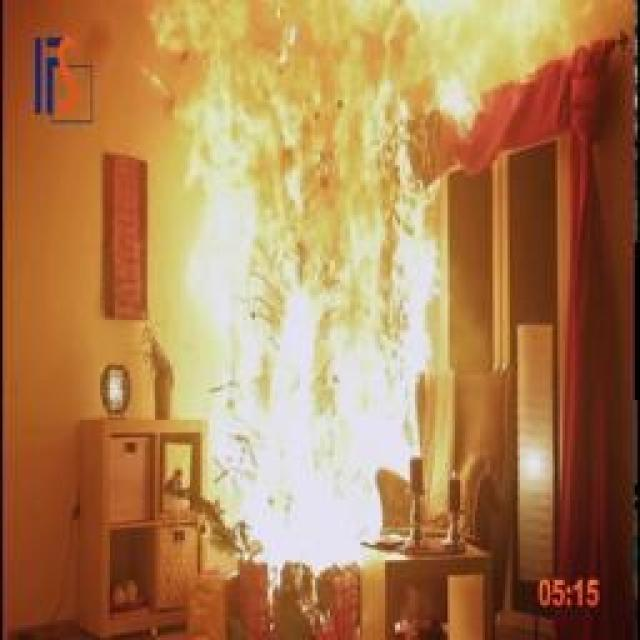fire: (126, 0, 504, 580)
